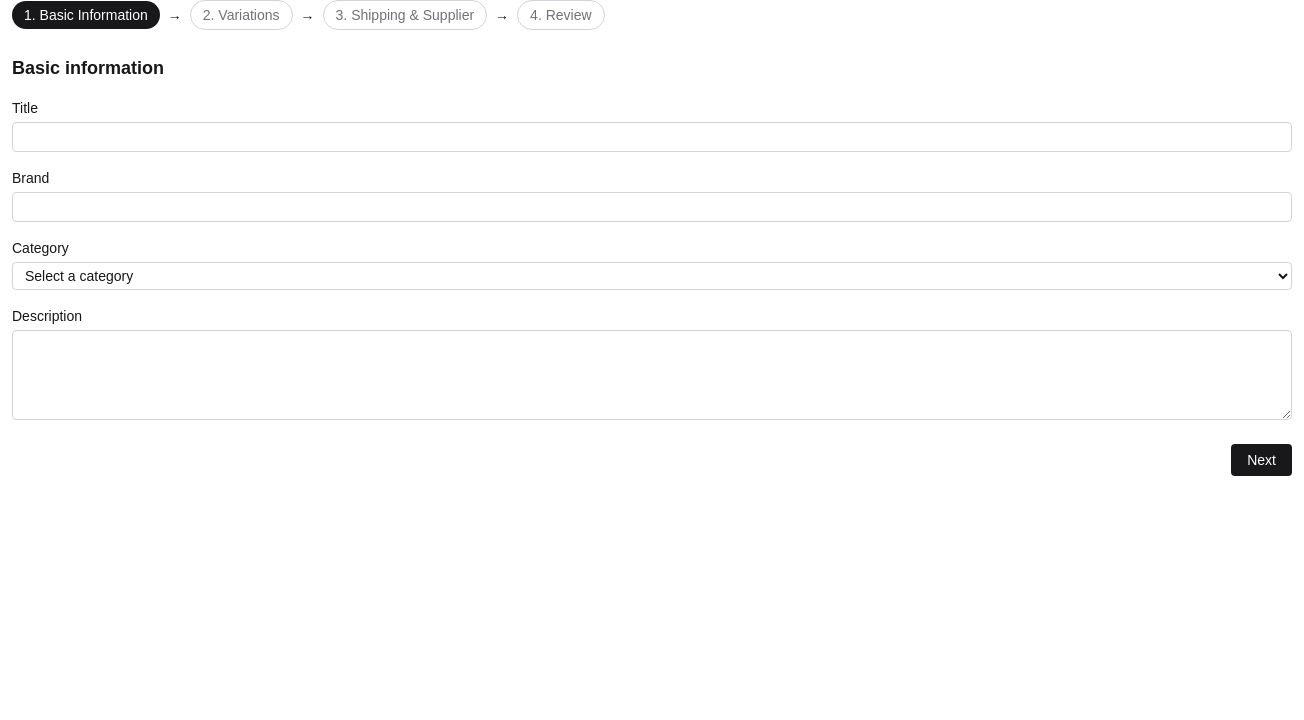
ProductWizardForm navigation › keeps the user on Step 1 and shows errors when Step 1 is invalid
What coordinates should you click on to do the following:
click the button "Next"
I would click on:
 (1262, 460)
Its box is x1=1231 y1=444 x2=1292 y2=476.
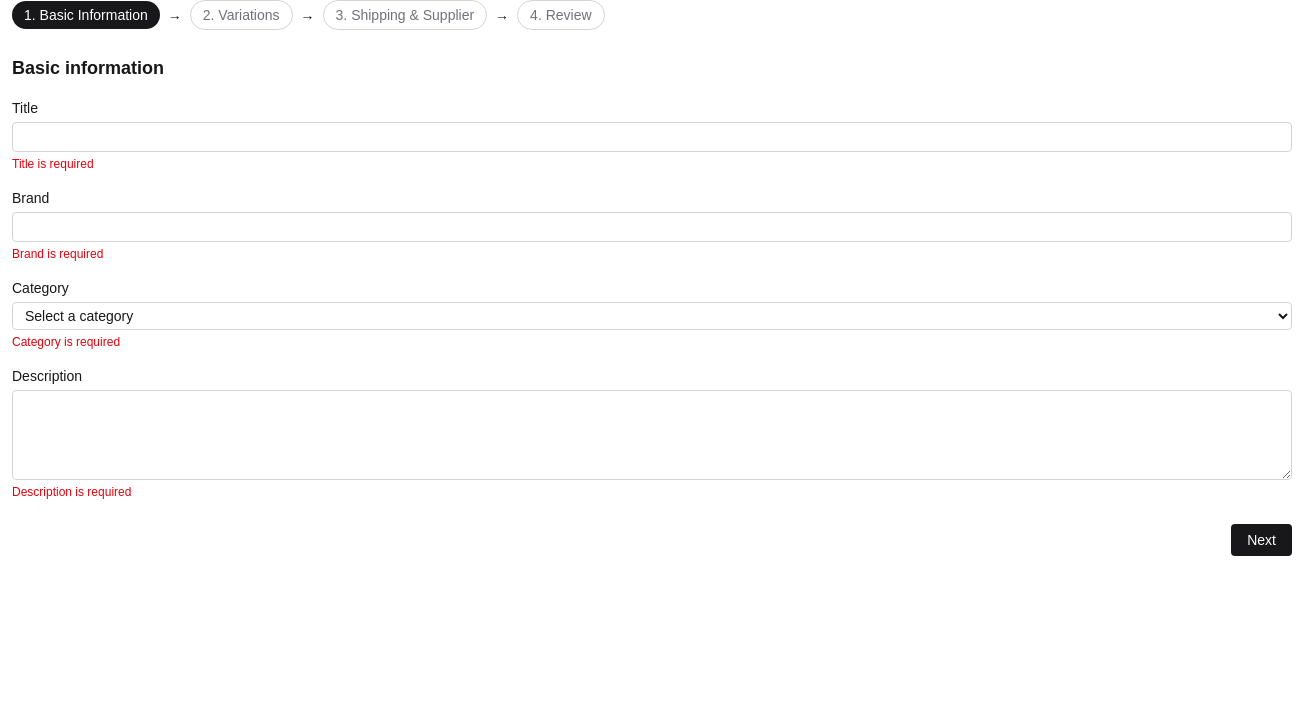
Now the text "Title is required" is shown, box x1=12 y1=157 x2=94 y2=171
Now the text "Brand is required" is shown, box x1=12 y1=247 x2=103 y2=261
Now the text "Category is required" is shown, box x1=12 y1=335 x2=120 y2=349
